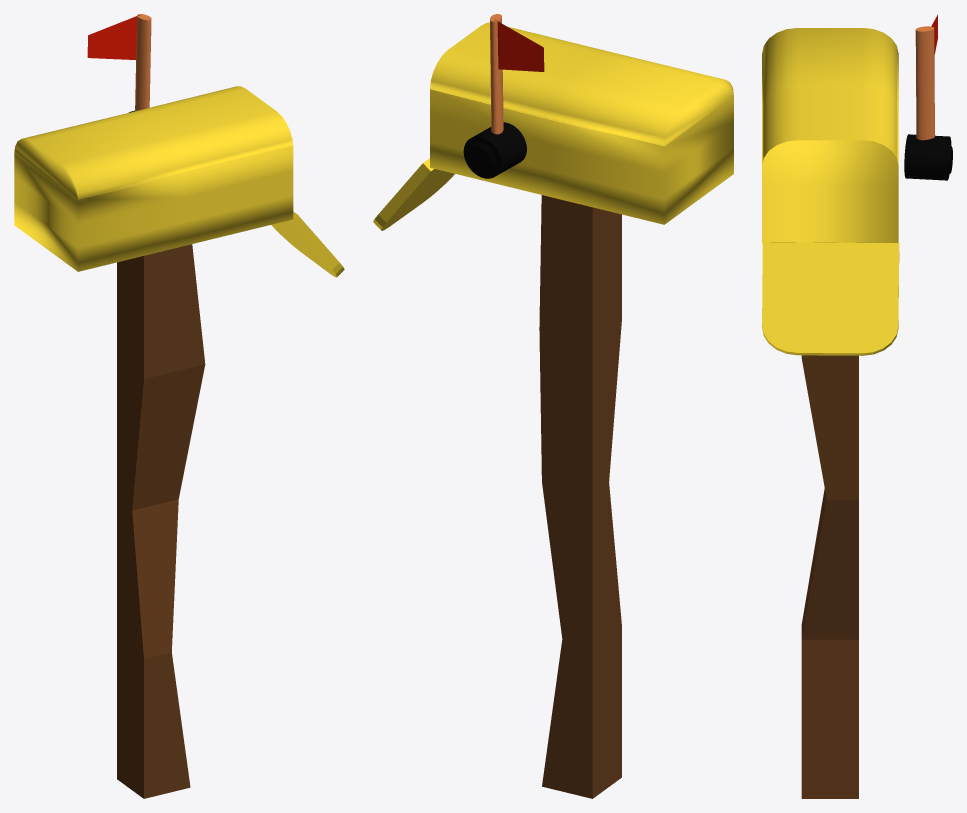
The model's file is BeeColorMailbox.fbx.
3 views of the same model, side by side, from view 1: azimuth 30°, elevation 25°; view 2: azimuth 150°, elevation 25°; view 3: azimuth 270°, elevation 25° (orthographic). The views are drawn at different scales.
Parts seen in each view (by area): view 1: Cube.001, Cube, Plane, Cube.002, Cylinder.001; view 2: Cube, Cube.001, Cylinder, Cube.002, Plane, Cylinder.001; view 3: Cube.001, Cube, Cube.002, Cylinder.001, Cylinder.
Part boxes in pixels (left/top/right/bottom): Cube.001: left=14, top=86, right=293, bottom=271; Cube: left=117, top=244, right=205, bottom=798; Plane: left=87, top=15, right=139, bottom=59; Cube.002: left=271, top=211, right=344, bottom=277; Cylinder.001: left=135, top=14, right=151, bottom=111; Cube: left=539, top=195, right=621, bottom=798; Cube.001: left=430, top=22, right=733, bottom=224; Cylinder: left=463, top=122, right=526, bottom=178; Cube.002: left=373, top=158, right=454, bottom=230; Plane: left=495, top=20, right=544, bottom=71; Cylinder.001: left=490, top=14, right=503, bottom=134; Cube.001: left=762, top=28, right=898, bottom=242; Cube: left=801, top=355, right=858, bottom=798; Cube.002: left=762, top=242, right=899, bottom=355; Cylinder.001: left=915, top=26, right=934, bottom=140; Cylinder: left=904, top=134, right=952, bottom=180.
Size of the model in its own units: 477 by 1197 by 267.
